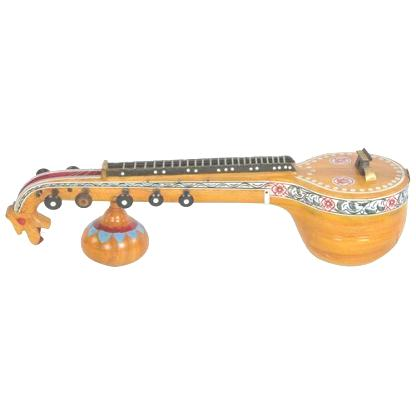Veena: (5, 140, 415, 278)
